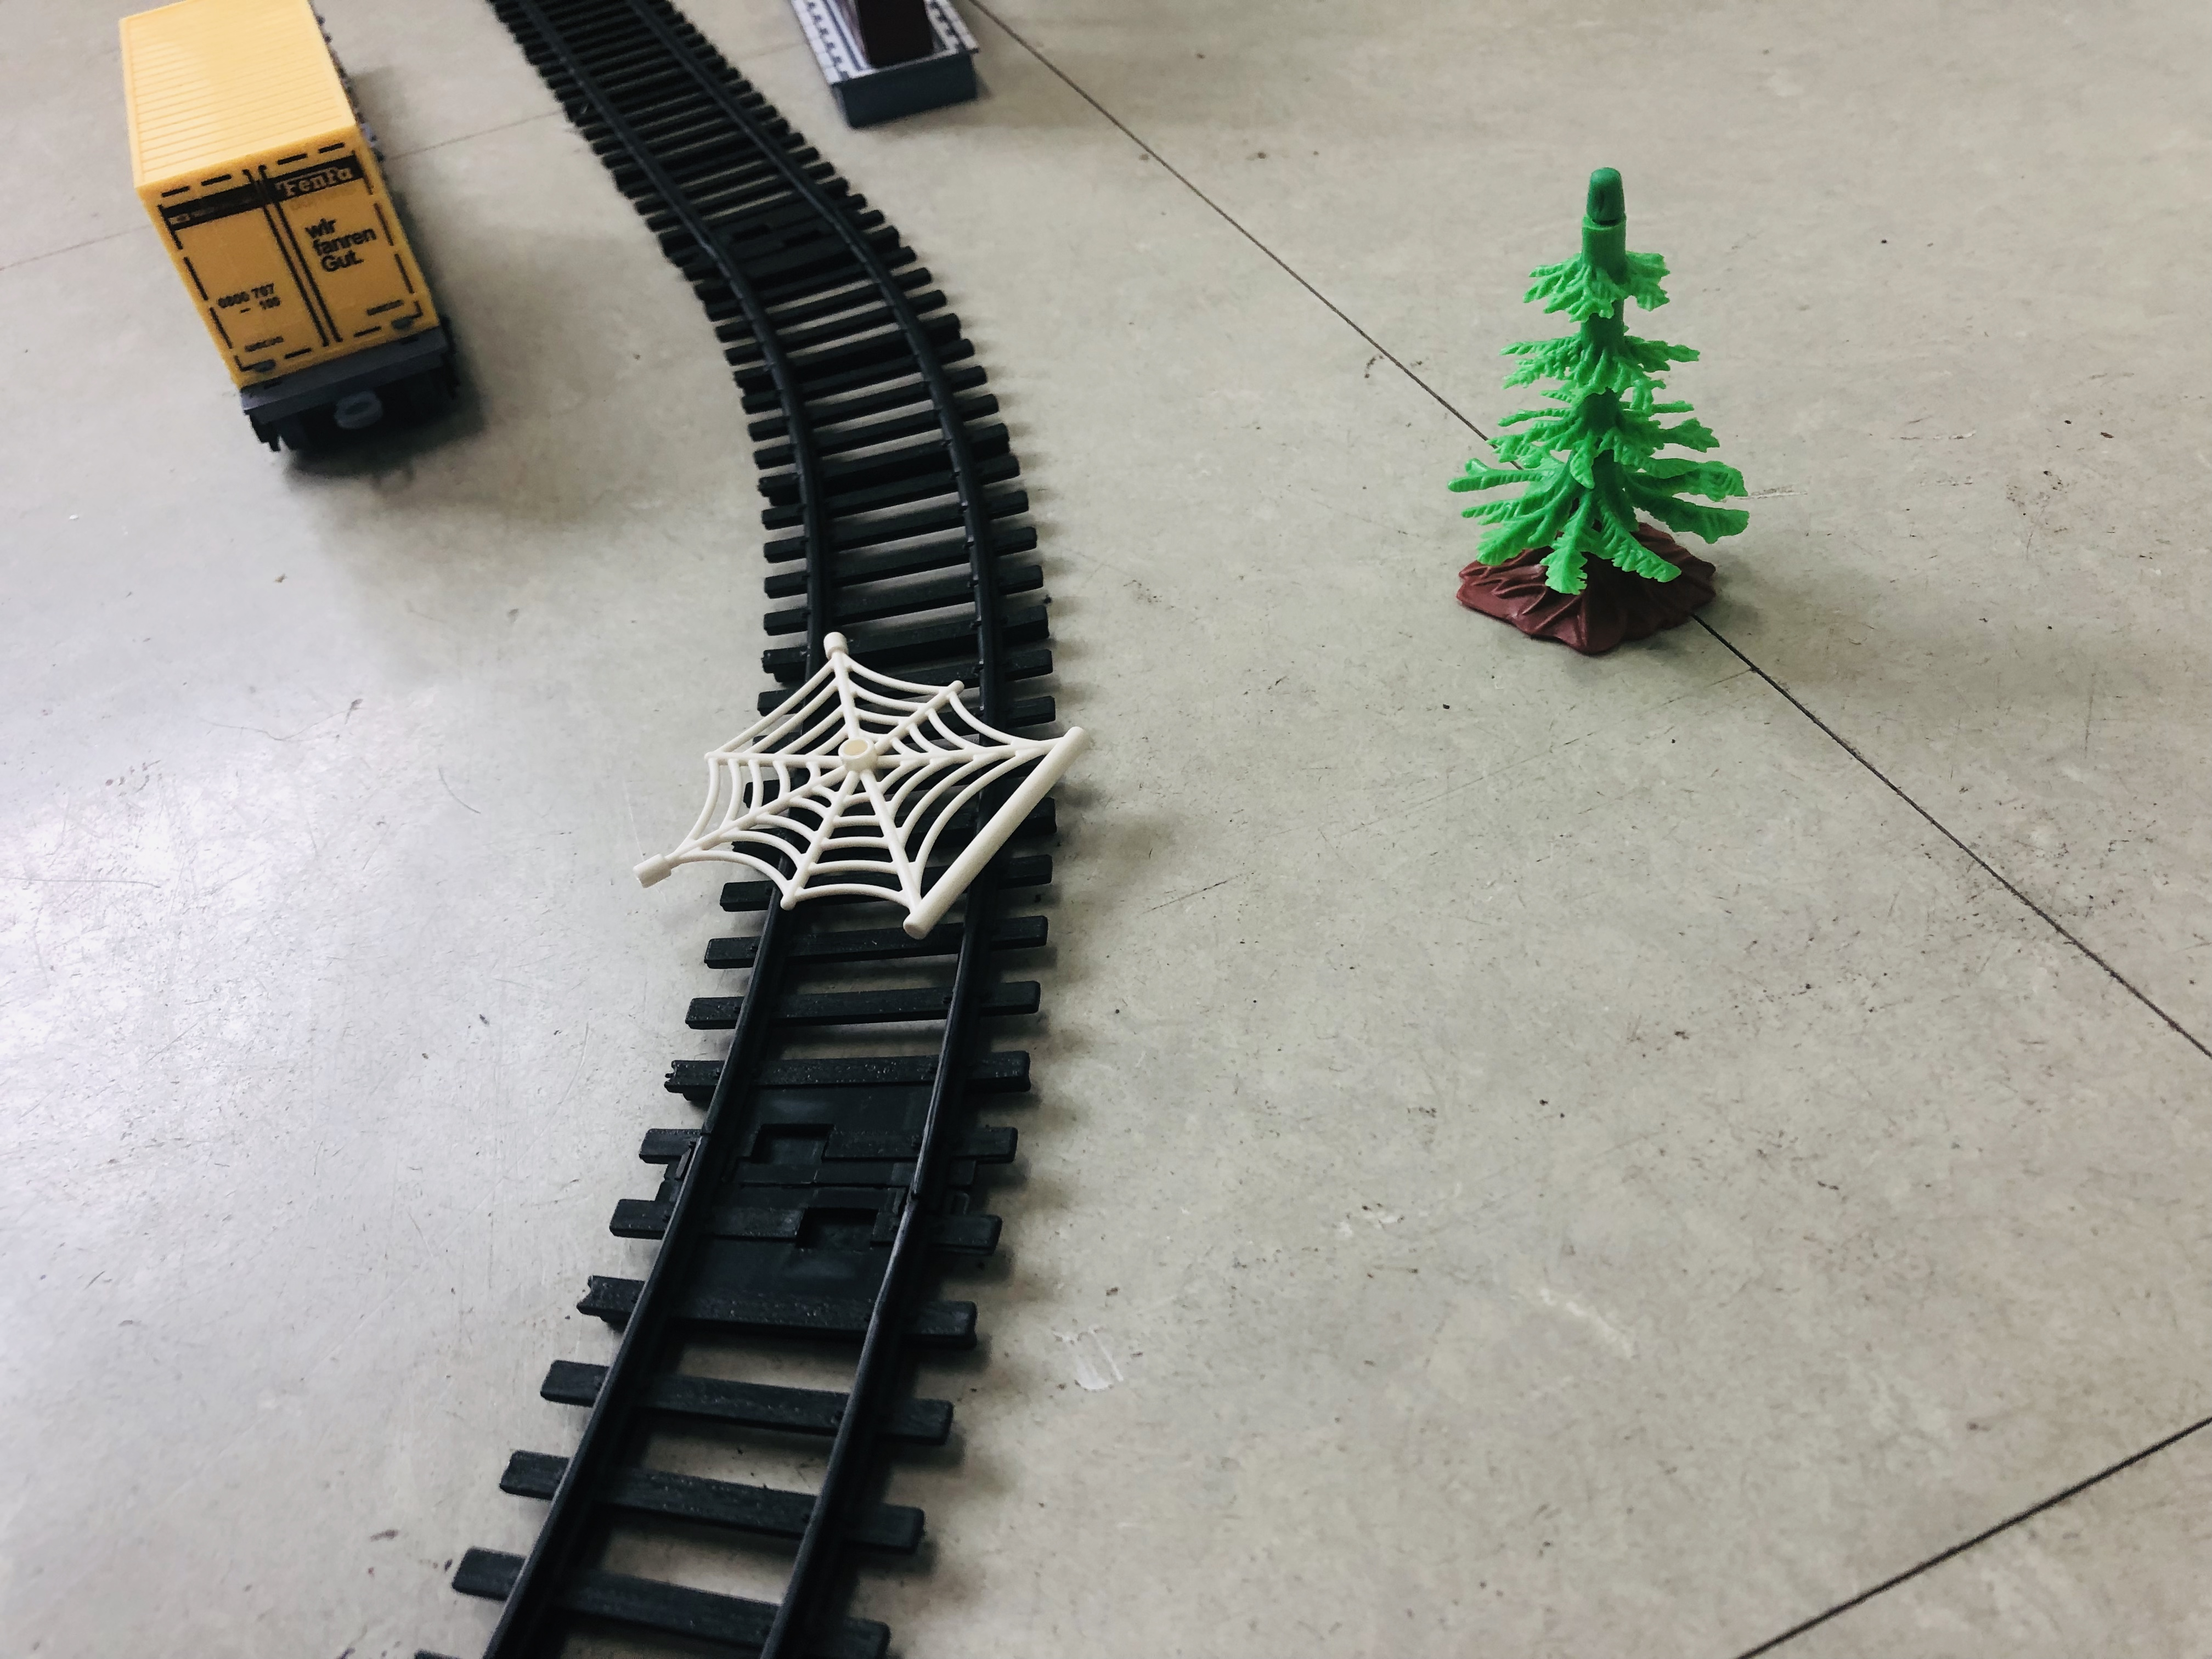tree: (1410, 156, 1770, 680)
web: (600, 589, 1087, 942)
